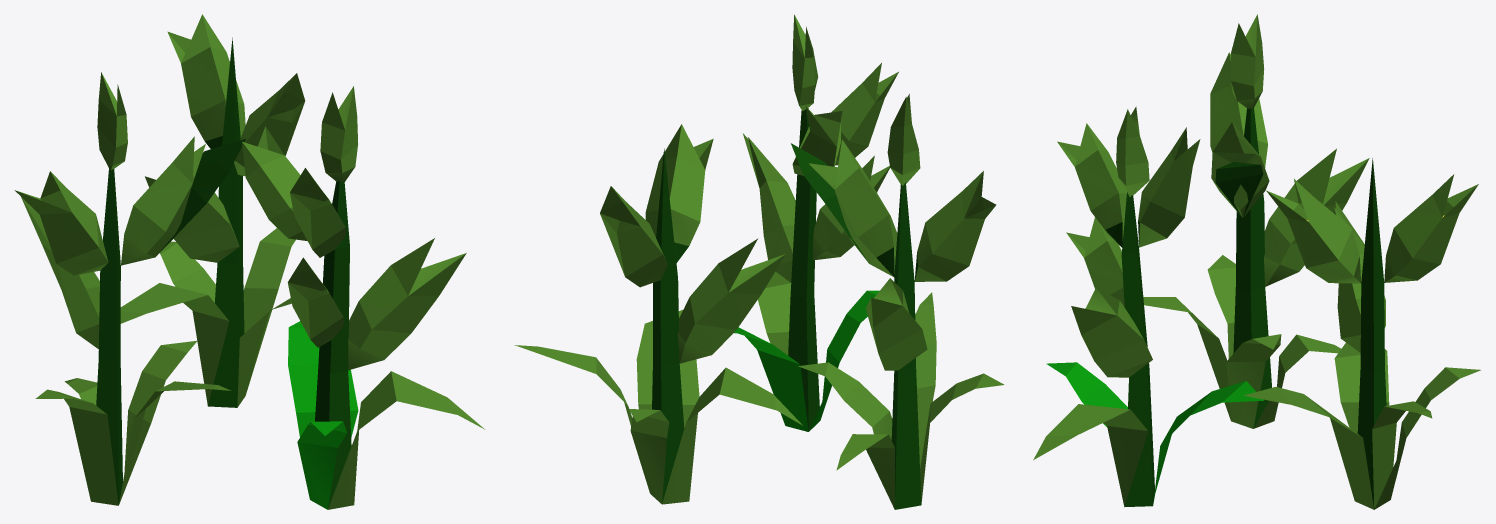
The model's file is corn_2.glb.
3 views of the same model, side by side, from view 1: azimuth 30°, elevation 25°; view 2: azimuth 150°, elevation 25°; view 3: azimuth 270°, elevation 25° (orthographic). The views are drawn at different scales.
Visible parts, largest first — view 1: corn_2; view 2: corn_2; view 3: corn_2.
Part boxes in pixels (x1,y1,x2,y2): corn_2: (14, 14, 485, 509); corn_2: (514, 14, 1004, 509); corn_2: (1033, 14, 1480, 509).
Size of the model in its own units: 2.91 by 2.92 by 2.91.
